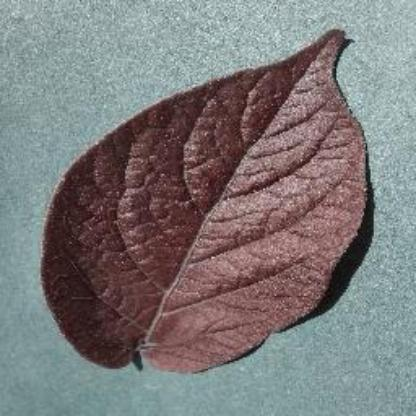Healthy-plant: (37, 26, 369, 382)
